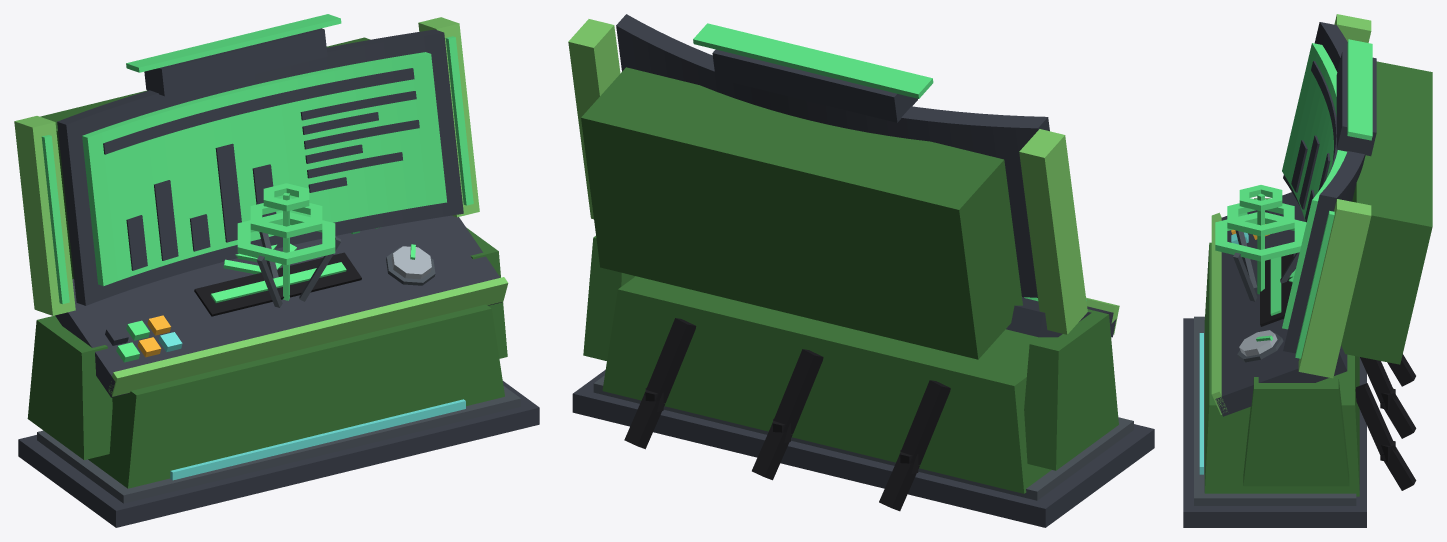
Rendered from GV_ShipTerminalBank_01.glb.
3 renders of one model, left to right at view 1: azimuth 30°, elevation 25°; view 2: azimuth 150°, elevation 25°; view 3: azimuth 270°, elevation 25°, orthographic. The views are drawn at different scales.
Parts seen in each view (by area): view 1: GV_ShipTerminalBank_01; view 2: GV_ShipTerminalBank_01; view 3: GV_ShipTerminalBank_01.
Boxes of the visible parts, box(x1,y1,x2,y2) form: GV_ShipTerminalBank_01: box(14, 14, 539, 527); GV_ShipTerminalBank_01: box(568, 14, 1154, 527); GV_ShipTerminalBank_01: box(1183, 14, 1432, 527).
Size of the model in its own units: 1.31 by 1.08 by 0.7062.
Materials: 1 (1 with a texture image).
